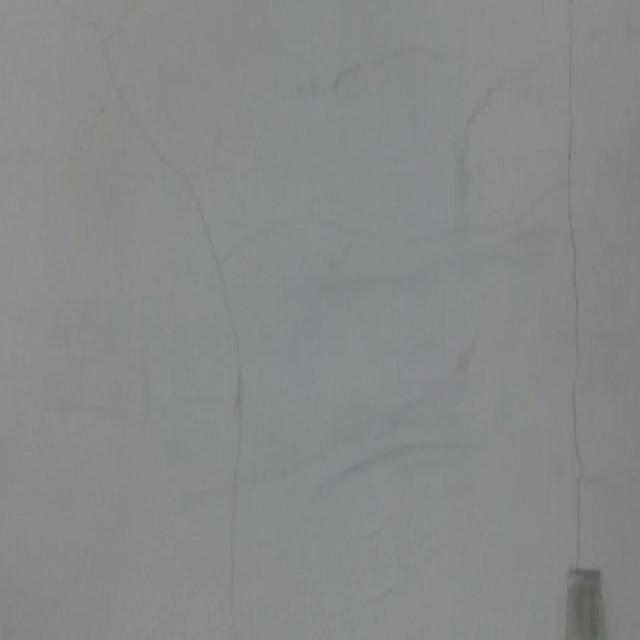Crack: (93, 0, 246, 640), (551, 0, 599, 564), (319, 168, 548, 254)
